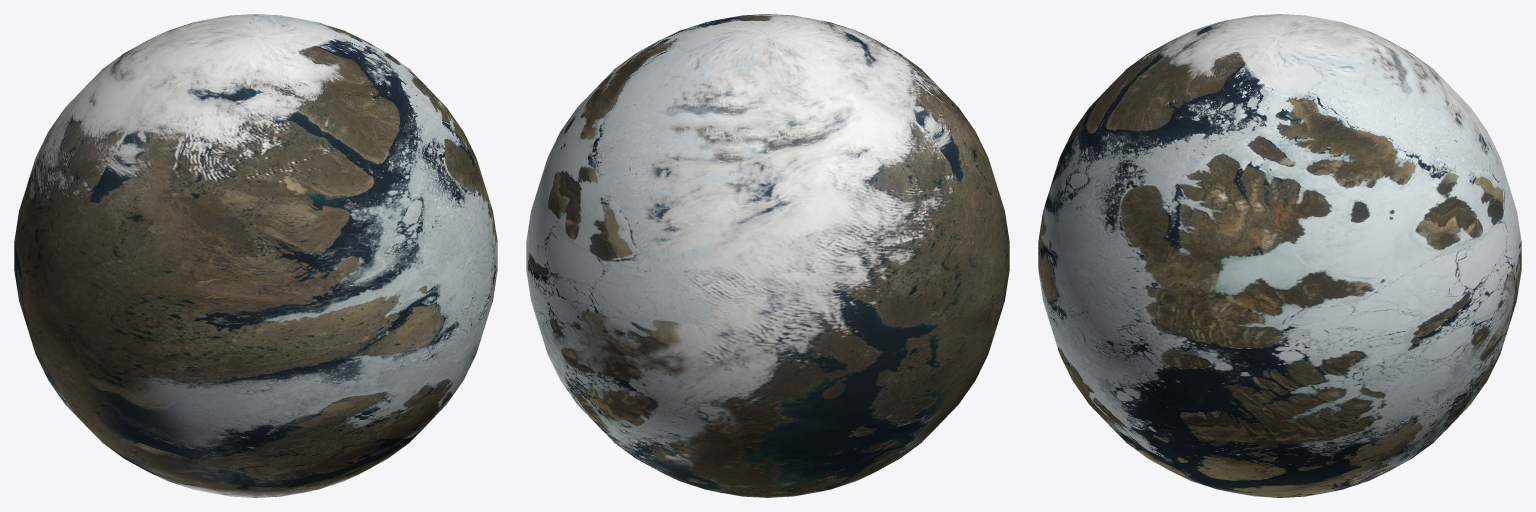
File: Planet3.fbx
The picture shows the model from 3 angles, left to right: view 1: azimuth 30°, elevation 25°; view 2: azimuth 150°, elevation 25°; view 3: azimuth 270°, elevation 25°; orthographic projection.
Visible parts, largest first — view 1: pSphere1; view 2: pSphere1; view 3: pSphere1.
Boxes of the visible parts, box(x1,y1,x2,y2) form: pSphere1: box(14, 14, 497, 497); pSphere1: box(526, 14, 1009, 497); pSphere1: box(1038, 14, 1521, 497).
Size of the model in its own units: 4.76 by 4.77 by 4.76.
1 material, 1 textured.
